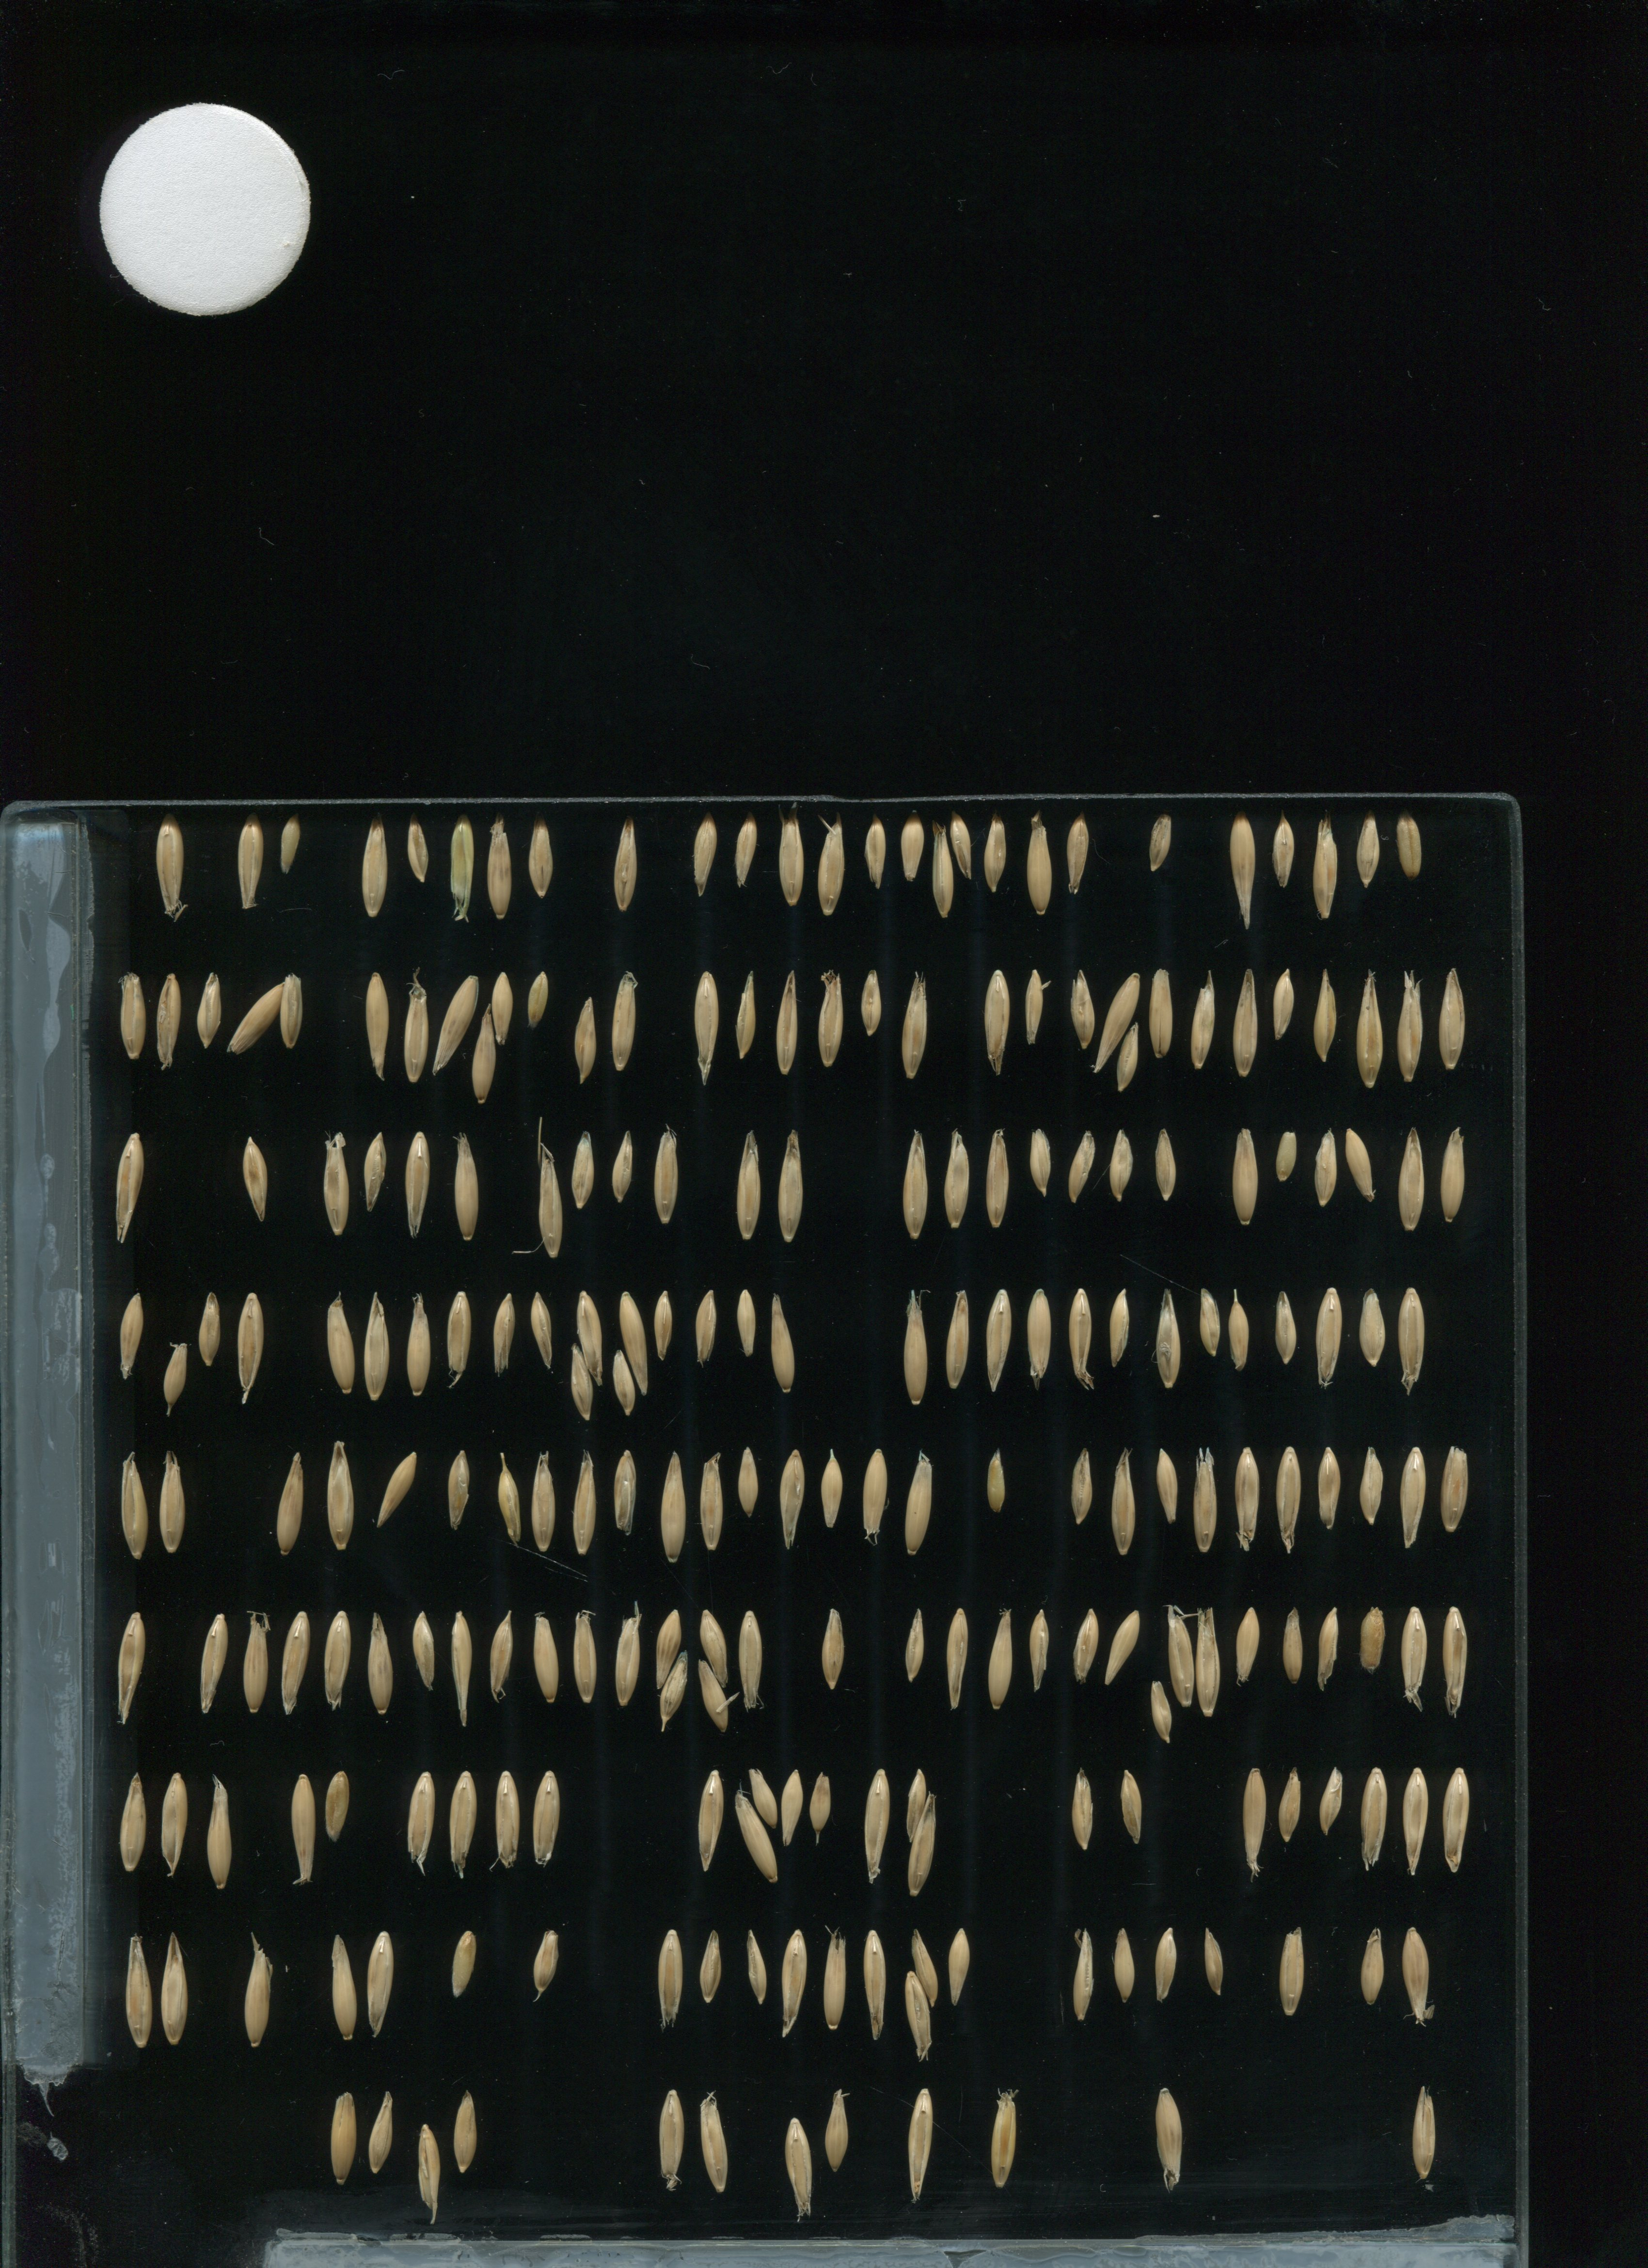NakedGrain: (525, 815, 558, 903), (1394, 808, 1430, 882), (1357, 1602, 1387, 1680), (1194, 1285, 1224, 1363), (447, 1925, 477, 2000), (324, 1766, 350, 1847), (1271, 1123, 1301, 1194), (403, 815, 433, 886), (523, 967, 553, 1035), (981, 1447, 1011, 1516), (856, 968, 886, 1037), (276, 810, 305, 880), (1146, 808, 1174, 879)
WholeGrain: (428, 970, 481, 1081), (1093, 968, 1143, 1074), (732, 1784, 782, 1884), (229, 977, 291, 1055), (150, 812, 190, 924), (232, 808, 273, 921), (903, 1787, 944, 1898), (616, 1287, 657, 1396), (1225, 806, 1259, 933), (1435, 956, 1468, 1083), (1229, 963, 1262, 1090), (1187, 961, 1220, 1088), (979, 958, 1012, 1085), (898, 960, 931, 1086), (813, 956, 847, 1083), (731, 956, 764, 1083), (361, 961, 394, 1088), (319, 1122, 352, 1248), (401, 1122, 435, 1248), (449, 1123, 482, 1250), (650, 1113, 683, 1240), (732, 1120, 766, 1247), (773, 1122, 806, 1248), (900, 1122, 933, 1248), (1225, 1113, 1259, 1240), (1435, 1115, 1468, 1241), (324, 1285, 357, 1412), (766, 1278, 799, 1405), (900, 1285, 933, 1412), (942, 1284, 975, 1410), (1394, 1273, 1428, 1400), (151, 1437, 185, 1564), (694, 1446, 727, 1572), (861, 1433, 894, 1560), (1187, 1435, 1220, 1562), (1271, 1433, 1305, 1560), (1396, 1428, 1430, 1555), (1437, 1426, 1470, 1553), (982, 1592, 1016, 1719), (940, 1592, 974, 1719), (613, 1594, 646, 1720), (447, 1601, 481, 1727), (364, 1599, 398, 1726), (320, 1599, 354, 1726), (238, 1595, 271, 1722), (285, 1764, 319, 1891), (694, 1757, 727, 1884), (861, 1761, 894, 1888), (1238, 1763, 1271, 1889), (1357, 1764, 1391, 1891), (1398, 1761, 1431, 1888), (859, 1918, 893, 2044), (776, 1918, 810, 2044), (903, 2083, 937, 2210), (986, 2074, 1019, 2201), (1151, 2074, 1185, 2201), (784, 2104, 817, 2231), (363, 1923, 396, 2050), (1310, 805, 1343, 930), (1396, 961, 1430, 1086), (771, 958, 805, 1083), (607, 961, 641, 1086), (400, 967, 433, 1092), (533, 1134, 567, 1259), (938, 1122, 972, 1247), (979, 1120, 1012, 1245), (1396, 1118, 1430, 1243), (361, 1285, 394, 1410), (400, 1284, 433, 1409), (1023, 1282, 1056, 1407), (324, 1439, 357, 1564), (658, 1446, 692, 1571), (1398, 1601, 1431, 1726), (1196, 1602, 1229, 1727), (734, 1602, 768, 1727), (445, 1763, 479, 1888), (819, 1918, 852, 2043), (699, 2080, 732, 2205), (651, 1919, 685, 2044), (327, 1926, 361, 2051), (157, 1928, 190, 2053), (606, 806, 643, 917), (815, 808, 852, 919), (356, 812, 393, 921), (442, 812, 479, 921), (692, 956, 724, 1083), (111, 1122, 143, 1248), (234, 1285, 266, 1412), (981, 1282, 1012, 1409), (273, 1439, 305, 1565), (569, 1440, 600, 1567), (903, 1442, 935, 1569), (1107, 1437, 1139, 1564), (1438, 1599, 1470, 1726), (530, 1594, 562, 1720), (116, 1597, 148, 1724), (197, 1595, 229, 1722), (116, 1761, 148, 1888), (120, 1928, 151, 2055), (204, 1770, 236, 1896), (407, 1764, 438, 1891), (528, 1763, 560, 1889), (1402, 1914, 1433, 2041), (657, 2073, 688, 2199), (243, 1932, 275, 2058), (1354, 967, 1386, 1092), (1065, 1277, 1097, 1402), (1155, 1277, 1187, 1402), (1315, 1275, 1347, 1400), (118, 1437, 150, 1562), (530, 1440, 562, 1565), (778, 1439, 810, 1564), (1231, 1437, 1262, 1562), (569, 1592, 600, 1717), (484, 1594, 516, 1719), (280, 1599, 312, 1724), (158, 1761, 190, 1886), (493, 1763, 525, 1888), (1438, 1761, 1470, 1886), (1410, 2074, 1442, 2199), (375, 1447, 421, 1534), (481, 815, 516, 924), (1102, 1608, 1146, 1694), (572, 1285, 607, 1389), (414, 2118, 445, 2233), (907, 1923, 945, 2013), (366, 2088, 401, 2187), (1166, 1601, 1197, 1708), (901, 1965, 935, 2065), (1067, 1925, 1099, 2030), (1069, 960, 1100, 1064), (491, 1446, 523, 1550), (1023, 815, 1055, 917), (1144, 963, 1176, 1065), (238, 1134, 273, 1226), (657, 1645, 692, 1734), (1310, 968, 1340, 1072), (1354, 1440, 1387, 1532), (1312, 1440, 1345, 1532), (734, 1440, 768, 1532), (1275, 1928, 1308, 2020), (327, 2088, 357, 2191), (776, 814, 808, 909), (488, 1289, 521, 1379), (195, 1285, 229, 1375), (1356, 1282, 1389, 1372), (611, 1447, 644, 1537), (408, 1608, 442, 1697), (815, 1604, 849, 1694), (900, 1604, 933, 1694), (1067, 1604, 1100, 1694), (1312, 1606, 1345, 1696), (701, 1604, 734, 1694), (1118, 1764, 1151, 1854), (1273, 1759, 1306, 1849), (1151, 1918, 1185, 2007), (1107, 1919, 1141, 2009), (945, 1921, 979, 2011), (820, 2087, 854, 2176), (739, 1926, 773, 2016), (697, 1923, 731, 2013), (528, 1925, 562, 2014), (449, 2087, 482, 2176), (468, 1000, 497, 1106), (697, 1653, 731, 1741), (773, 1764, 808, 1847), (861, 803, 893, 895), (444, 1287, 475, 1379), (817, 1442, 849, 1534), (1276, 1604, 1308, 1696), (651, 1602, 683, 1694), (116, 1289, 148, 1379), (1151, 1439, 1183, 1528), (1065, 1439, 1097, 1528), (445, 1446, 477, 1535), (1026, 1606, 1058, 1696), (1231, 1604, 1262, 1694), (1067, 1768, 1099, 1858), (1317, 1761, 1349, 1851), (1356, 1925, 1387, 2014), (1201, 1918, 1232, 2007), (687, 806, 717, 900), (928, 826, 958, 919), (570, 991, 599, 1090), (731, 806, 761, 898), (898, 803, 928, 895), (278, 967, 306, 1064), (195, 965, 224, 1062), (155, 970, 183, 1067), (120, 970, 148, 1067), (945, 806, 977, 886), (1269, 812, 1301, 891), (486, 967, 518, 1046), (1025, 1122, 1056, 1201), (1310, 1129, 1342, 1208), (1343, 1123, 1375, 1203), (690, 1285, 722, 1365), (160, 1340, 192, 1419), (567, 1344, 597, 1426), (1063, 815, 1095, 893), (1150, 1123, 1181, 1201), (1106, 1129, 1137, 1206), (1269, 1291, 1301, 1368), (1104, 1287, 1136, 1365), (650, 1285, 681, 1363), (526, 1291, 558, 1368), (1354, 812, 1384, 891), (1021, 968, 1051, 1048), (1115, 1016, 1144, 1095), (1067, 1127, 1097, 1206), (607, 1125, 637, 1204), (357, 1130, 387, 1210), (745, 1763, 778, 1833), (981, 815, 1011, 893), (1269, 968, 1299, 1046), (570, 1132, 600, 1210), (1224, 1292, 1254, 1370), (731, 1284, 761, 1361), (1146, 1675, 1176, 1749), (609, 1349, 639, 1421), (808, 1770, 835, 1844), (905, 1763, 928, 1847)
